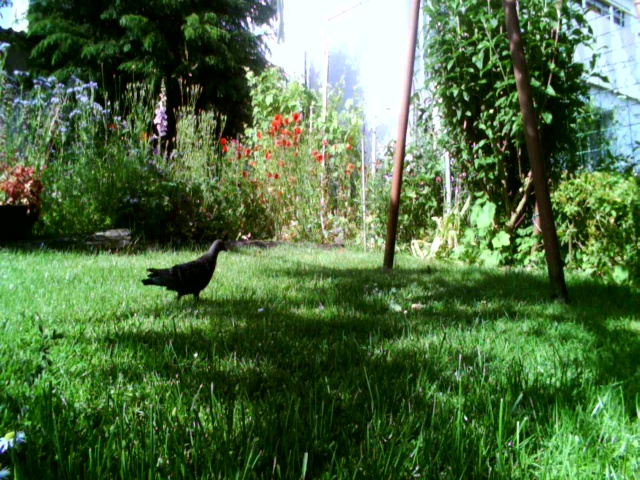Pigeon: (137, 237, 235, 303)
